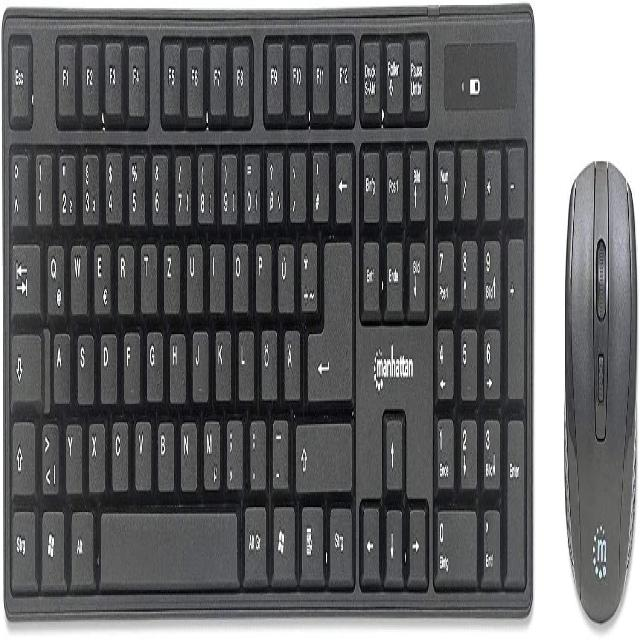0: (240, 138, 259, 221)
1: (33, 143, 52, 223)
2: (56, 143, 75, 223)
3: (80, 141, 98, 223)
4: (103, 140, 120, 220)
5: (126, 143, 144, 221)
6: (149, 141, 167, 221)
7: (173, 143, 190, 221)
8: (195, 140, 213, 221)
9: (218, 141, 236, 221)
a: (51, 322, 69, 399)
accent: (287, 140, 305, 218)
ae: (281, 319, 299, 396)
alt-left: (68, 502, 92, 582)
altgr-right: (242, 496, 266, 579)
b: (155, 412, 173, 487)
c: (109, 411, 127, 486)
caret: (6, 140, 27, 223)
comma: (224, 409, 241, 485)
d: (98, 322, 115, 399)
del: (334, 145, 352, 225)
e: (92, 233, 109, 311)
enter: (307, 228, 352, 399)
f: (121, 321, 138, 397)
g: (144, 321, 161, 396)
h: (167, 322, 184, 399)
hash: (310, 138, 328, 218)
i: (207, 233, 224, 308)
j: (190, 321, 207, 399)
k: (212, 321, 230, 396)
keyboard: (1, 10, 534, 622)
l: (236, 321, 253, 396)
less: (39, 412, 57, 492)
m: (201, 411, 218, 486)
minus: (270, 409, 287, 482)
n: (178, 412, 196, 487)
o: (229, 231, 247, 308)
oe: (258, 319, 276, 396)
p: (253, 233, 270, 308)
plus: (298, 230, 316, 310)
point: (247, 411, 265, 484)
q: (44, 234, 63, 311)
r: (115, 233, 133, 309)
s: (74, 322, 92, 399)
shift-left: (9, 412, 34, 492)
shift-lock: (9, 324, 40, 397)
shift-right: (293, 412, 351, 487)
space: (98, 501, 237, 586)
ss: (263, 140, 282, 220)
strg-left: (8, 502, 35, 588)
strg-right: (326, 499, 352, 580)
t: (138, 231, 155, 308)
tab: (9, 233, 39, 311)
u: (184, 233, 201, 309)
ue: (275, 233, 293, 309)
v: (132, 411, 150, 486)
w: (68, 233, 86, 311)
x: (86, 412, 103, 487)
y: (63, 414, 81, 489)
z: (161, 233, 178, 309)
